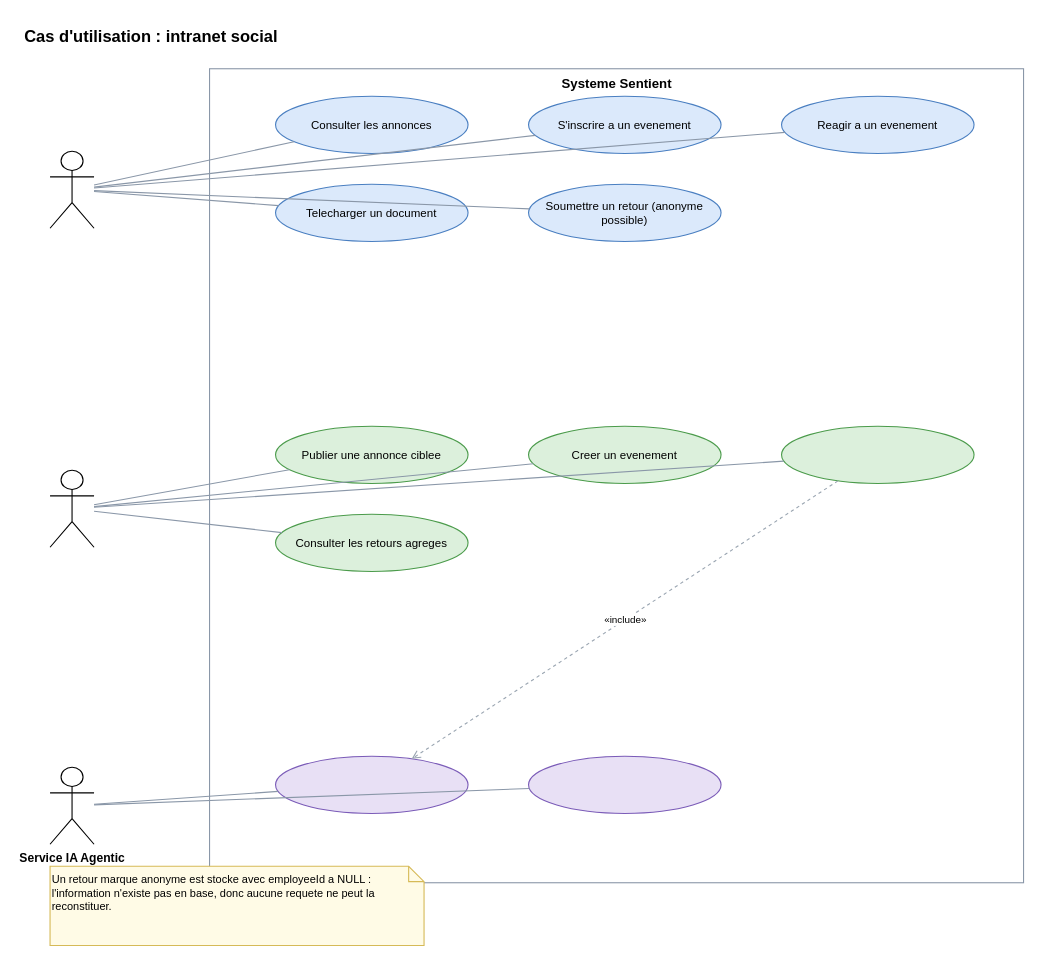
Some shapes in this 1043 by 965 pixel diagram are drawn without their labels. The box of each missing label's shape, as (x1, y1, x2, y2) in pixels:
Administrateur RH: (49, 469, 94, 547)
Consulter les documents approuves: (527, 755, 721, 813)
Deposer un document de reference: (780, 425, 974, 483)
Employe: (49, 150, 94, 228)
Indexer un document pour le RAG: (274, 755, 468, 813)
